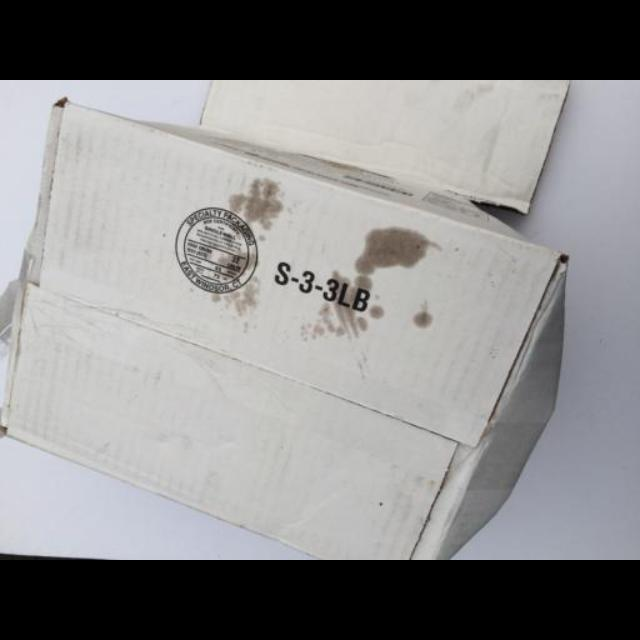papelão: (2, 80, 570, 560)
